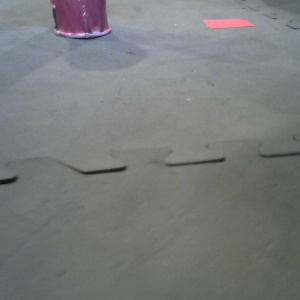right: (28, 1, 115, 45), (32, 1, 114, 43)
